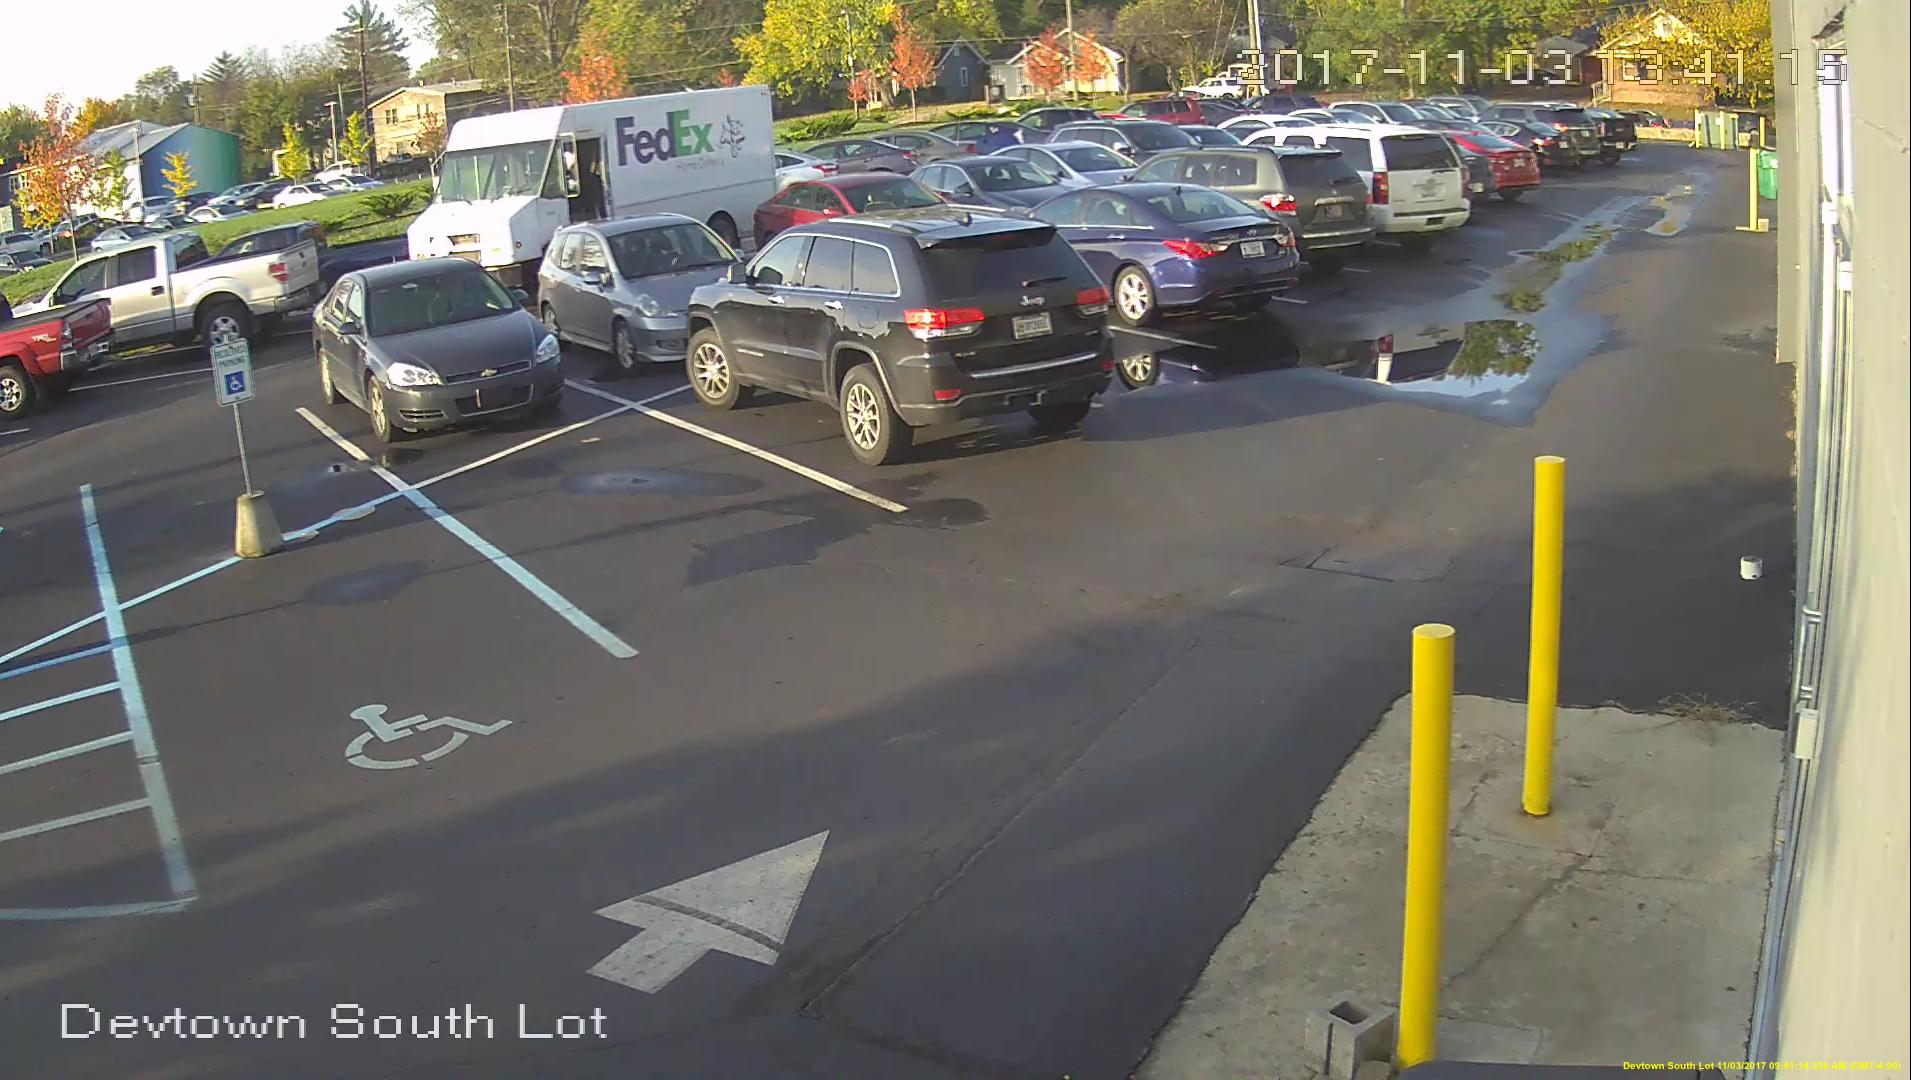fedex_truck: (396, 77, 798, 272)
